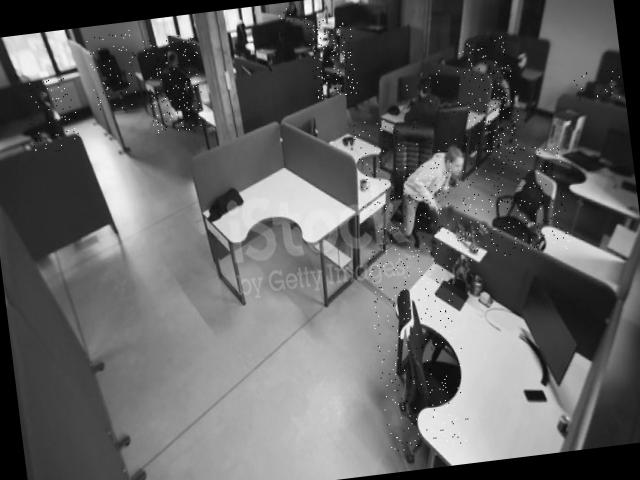empty chair: (367, 260, 473, 453), (490, 144, 570, 256), (85, 27, 142, 116), (24, 76, 82, 156), (572, 68, 624, 103)
occupiedchair: (352, 107, 499, 272), (454, 33, 524, 167), (398, 62, 473, 166), (142, 33, 207, 137), (306, 17, 358, 99)
